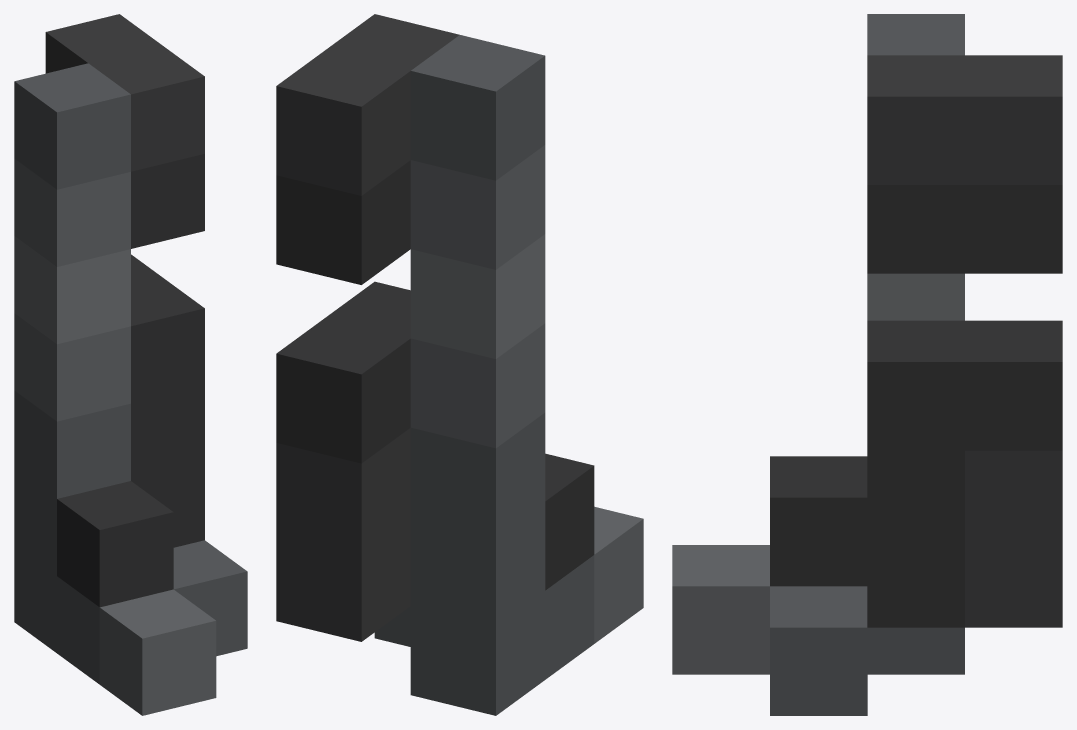
The model's file is puppetneonLegLeft.obj.
The picture shows the model from 3 angles, left to right: view 1: azimuth 30°, elevation 25°; view 2: azimuth 150°, elevation 25°; view 3: azimuth 270°, elevation 25°; orthographic projection. The views are drawn at different scales.
Parts seen in each view (by area): view 1: puppetneonLegLeft; view 2: puppetneonLegLeft; view 3: puppetneonLegLeft.
Part boxes in pixels (<box>): puppetneonLegLeft: <box>14,14,247,715</box>; puppetneonLegLeft: <box>276,14,643,715</box>; puppetneonLegLeft: <box>672,14,1062,715</box>.
Bounding box in the file's own units: 2 × 7 × 4.
1 material, 1 textured.
